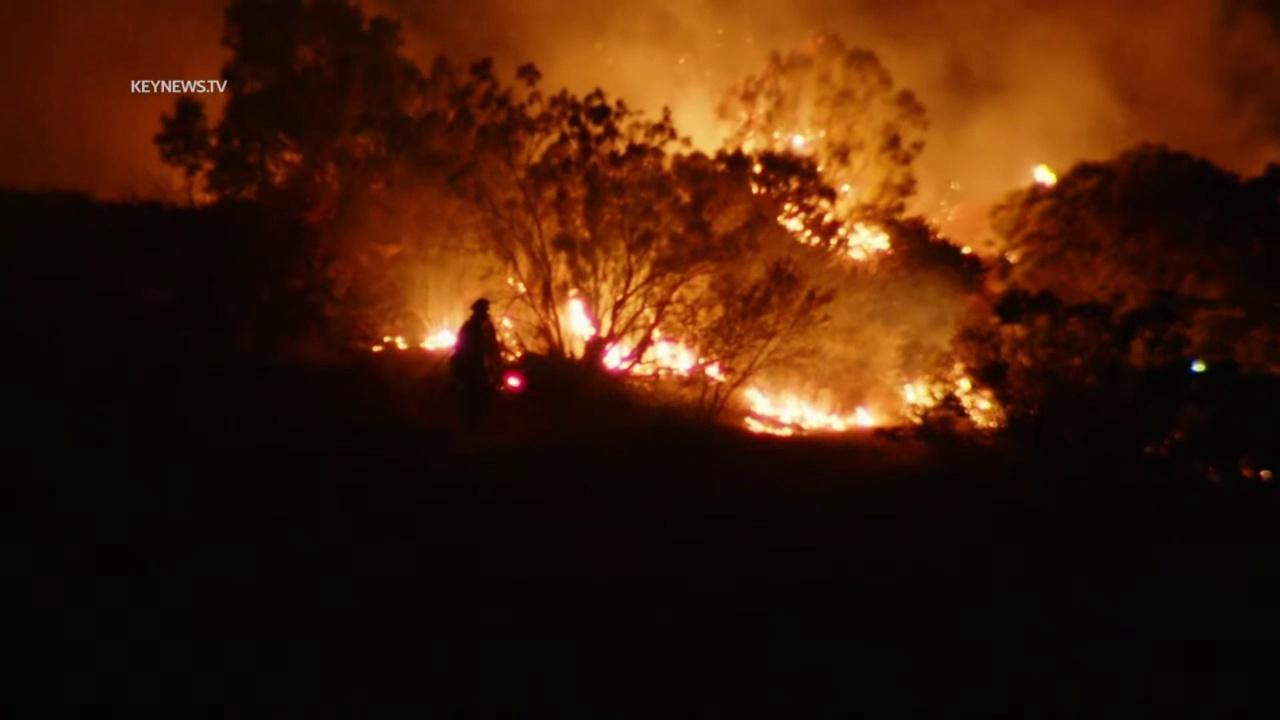fire: (775, 195, 893, 261), (741, 383, 877, 438), (900, 364, 1009, 431), (643, 309, 729, 383), (562, 286, 598, 342), (602, 341, 641, 375), (496, 316, 524, 363), (419, 327, 458, 354), (1030, 162, 1060, 190), (370, 333, 411, 352), (505, 371, 525, 393), (506, 277, 528, 296), (788, 130, 806, 149), (960, 244, 974, 256)
smoke: (0, 0, 1280, 275)
